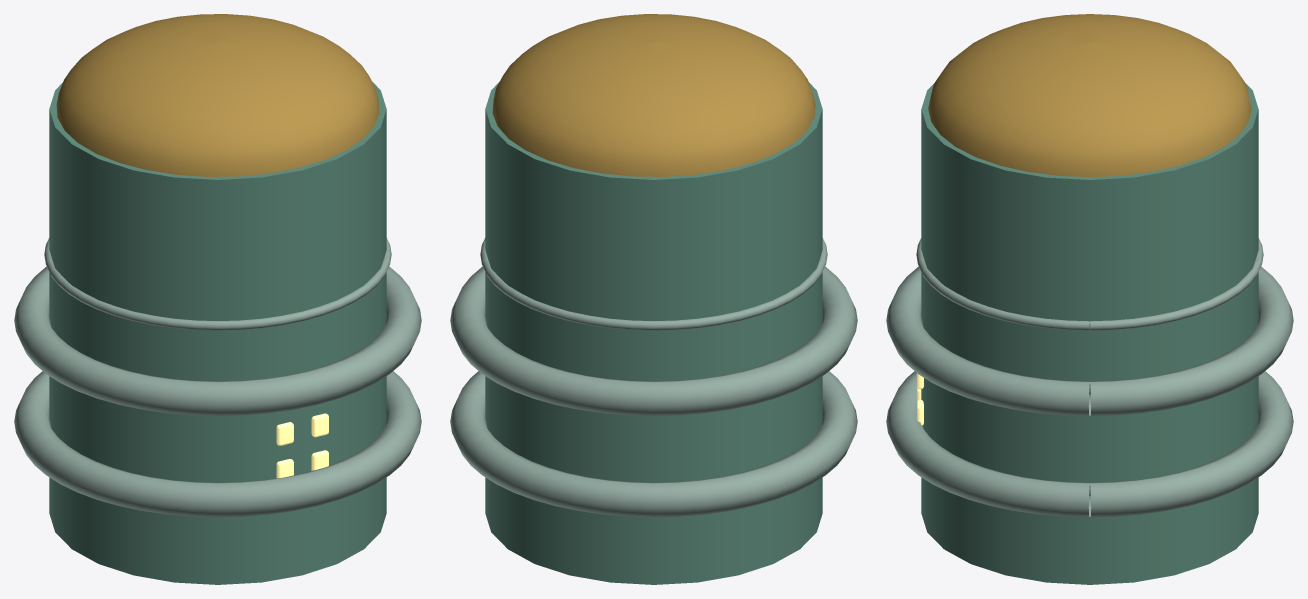
3 renders of one model, left to right at view 1: azimuth 30°, elevation 25°; view 2: azimuth 150°, elevation 25°; view 3: azimuth 270°, elevation 25°, orthographic.
Visible parts, largest first — view 1: Cylindrical tower, Tower crown, Tower intermediate ledge.001, Tower intermediate ledge, Tower seam; view 2: Cylindrical tower, Tower crown, Tower intermediate ledge.001, Tower intermediate ledge, Tower seam; view 3: Cylindrical tower, Tower crown, Tower intermediate ledge.001, Tower intermediate ledge, Tower seam.
Part boxes in pixels (x1,y1,x2,y2): Cylindrical tower: (49, 82, 386, 584); Tower crown: (56, 14, 379, 176); Tower intermediate ledge.001: (14, 266, 421, 415); Tower intermediate ledge: (14, 371, 421, 517); Tower seam: (44, 238, 391, 330); Cylindrical tower: (485, 82, 822, 584); Tower crown: (492, 14, 815, 176); Tower intermediate ledge.001: (450, 266, 857, 415); Tower intermediate ledge: (450, 371, 857, 517); Tower seam: (480, 238, 827, 330); Cylindrical tower: (921, 84, 1258, 584); Tower crown: (928, 14, 1251, 177); Tower intermediate ledge.001: (886, 266, 1293, 415); Tower intermediate ledge: (886, 371, 1293, 517); Tower seam: (916, 238, 1263, 330).
Bounding box in the file's own units: 2.01 × 2.56 × 2.01.
